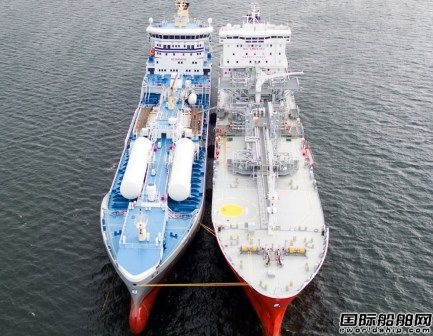Cargoship: (86, 8, 215, 318), (217, 3, 335, 336)
